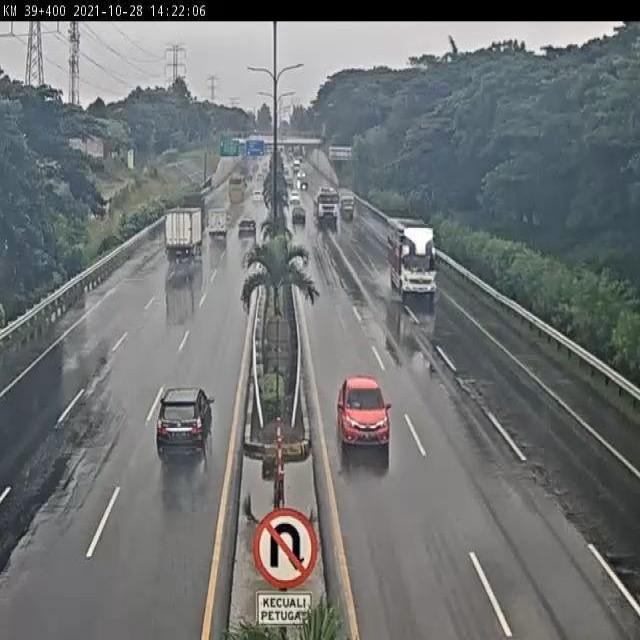car: (332, 373, 393, 451), (155, 384, 216, 461), (237, 217, 259, 243), (289, 203, 308, 228)
truck-l-: (386, 216, 438, 292), (164, 201, 203, 260)
truck-s-: (206, 207, 229, 240)
truck-xl-: (311, 187, 340, 228)
